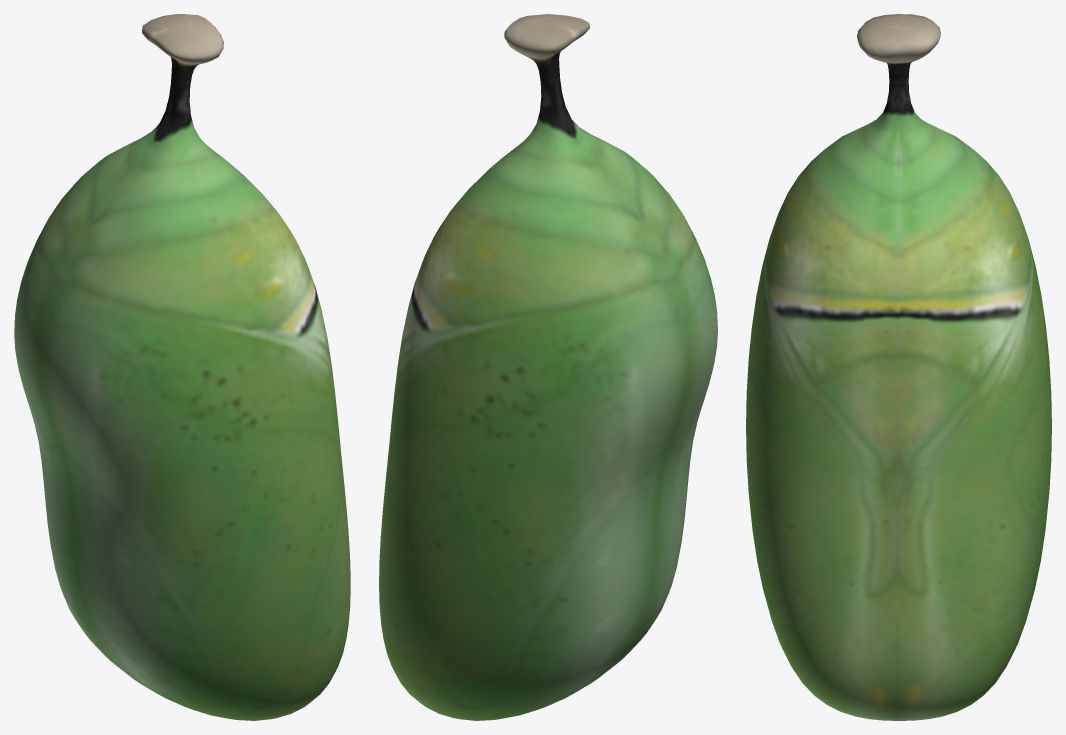
The model's file is Kepompong.glb.
3 views of the same model, side by side, from view 1: azimuth 30°, elevation 25°; view 2: azimuth 150°, elevation 25°; view 3: azimuth 270°, elevation 25° (orthographic). The views are drawn at different scales.
Parts seen in each view (by area): view 1: pCube1; view 2: pCube1; view 3: pCube1.
Part boxes in pixels (x1=…): pCube1: x1=14, y1=14, x2=350, y2=720; pCube1: x1=379, y1=14, x2=717, y2=720; pCube1: x1=746, y1=14, x2=1051, y2=720.
Size of the model in its own units: 0.1216 by 0.2886 by 0.1212.
Materials: 1 (1 with a texture image).
